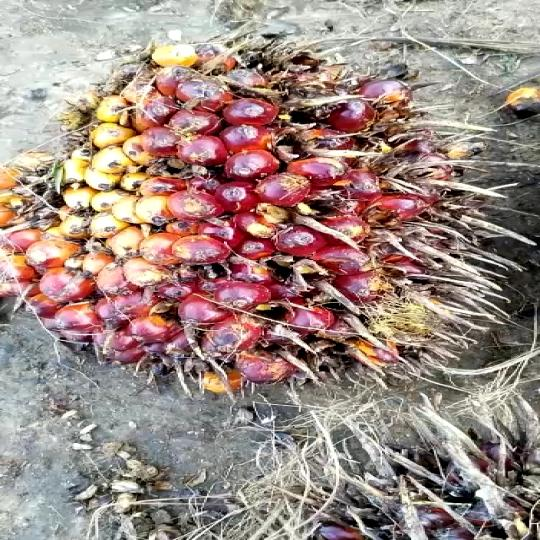masak: (0, 31, 491, 411)
